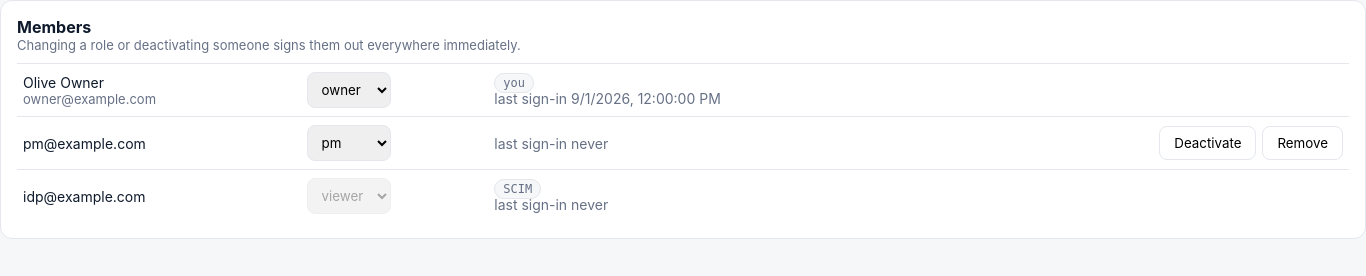
Test case: MembersSection › shows the server's reason when it refuses
Select "pm" in the dropdown named "Role for owner@example.com" at (348, 90), box top-left (306, 72), bottom-right (390, 108)
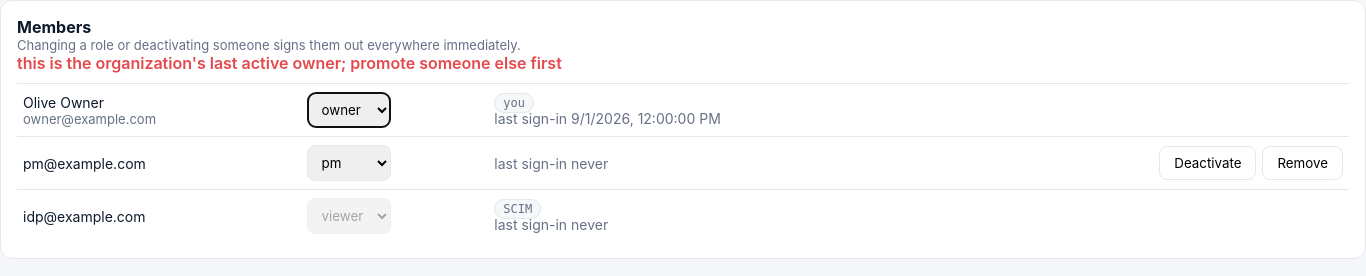
Result: the text "last active owner" is shown at top-left (17, 53), bottom-right (562, 73)
